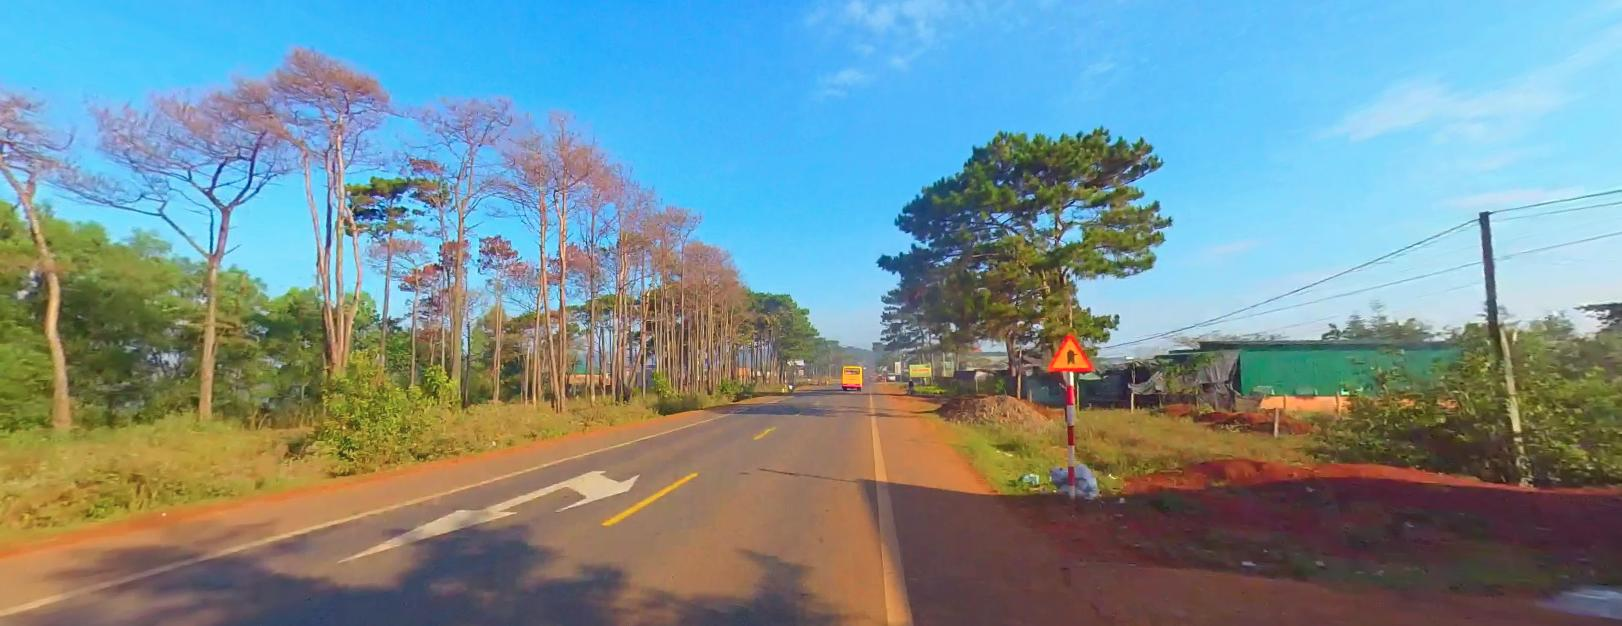Nguy hiem: (1047, 332, 1093, 369)
